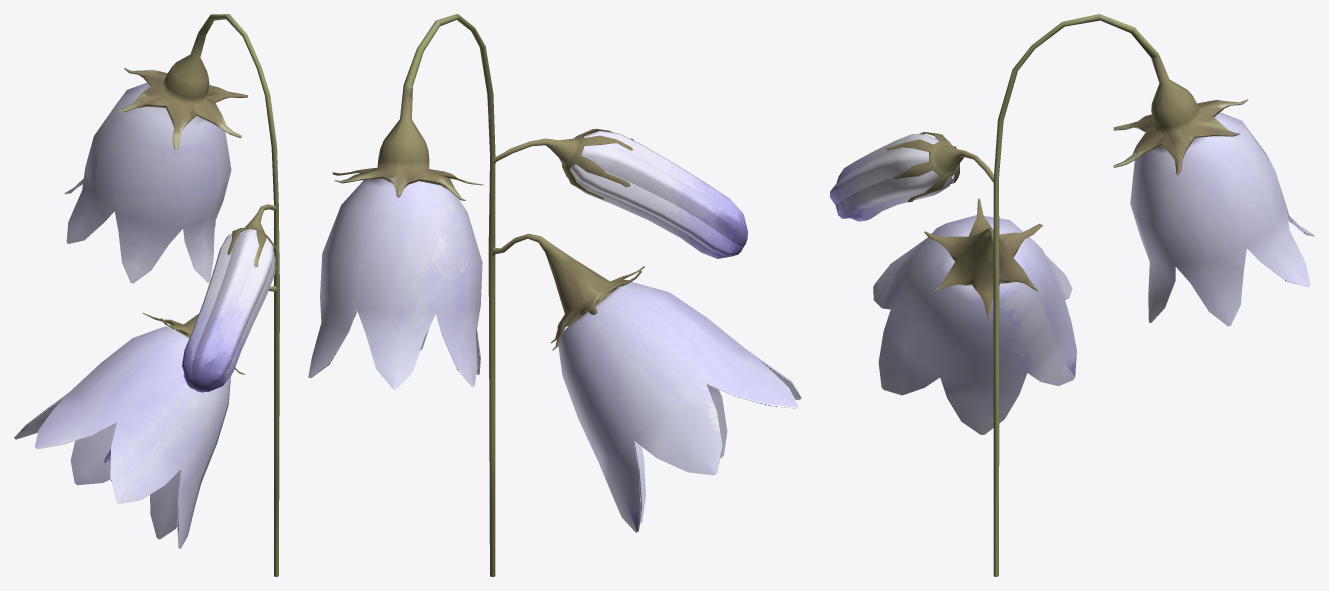
The picture shows the model from 3 angles, left to right: view 1: azimuth 30°, elevation 25°; view 2: azimuth 150°, elevation 25°; view 3: azimuth 270°, elevation 25°; orthographic projection. The views are drawn at different scales.
Visible parts, largest first — view 1: pCylinder6; view 2: pCylinder6; view 3: pCylinder6.
Part boxes in pixels (x1=…): pCylinder6: x1=14, y1=14, x2=279, y2=576; pCylinder6: x1=308, y1=14, x2=801, y2=576; pCylinder6: x1=830, y1=14, x2=1314, y2=576.
Size of the model in its own units: 1.45 by 2.35 by 1.83.
Materials: 1 (1 with a texture image).
